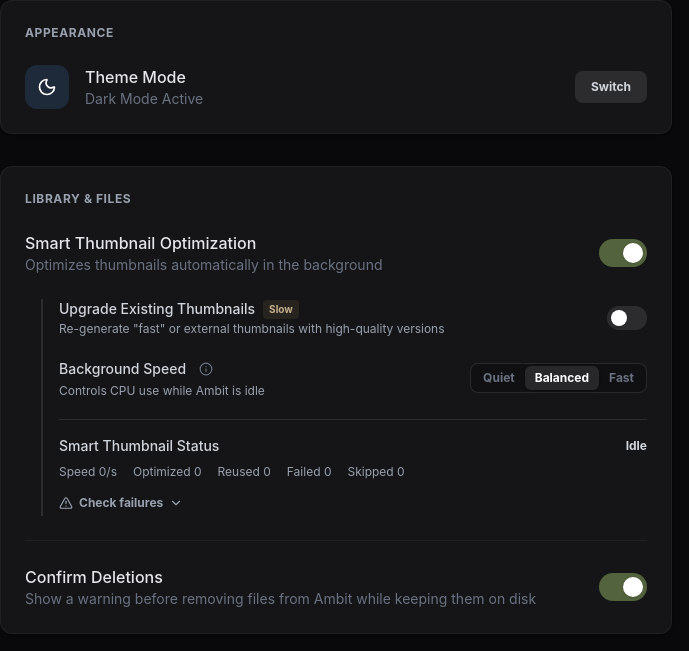
Test: GeneralTab Smart Thumbnail details › explains the CPU and responsiveness tradeoff between background speed profiles
The image size is (689, 651).
Step 1. Focus the button named "About background thumbnail speed" → (206, 369), box x1=194 y1=357 x2=218 y2=381
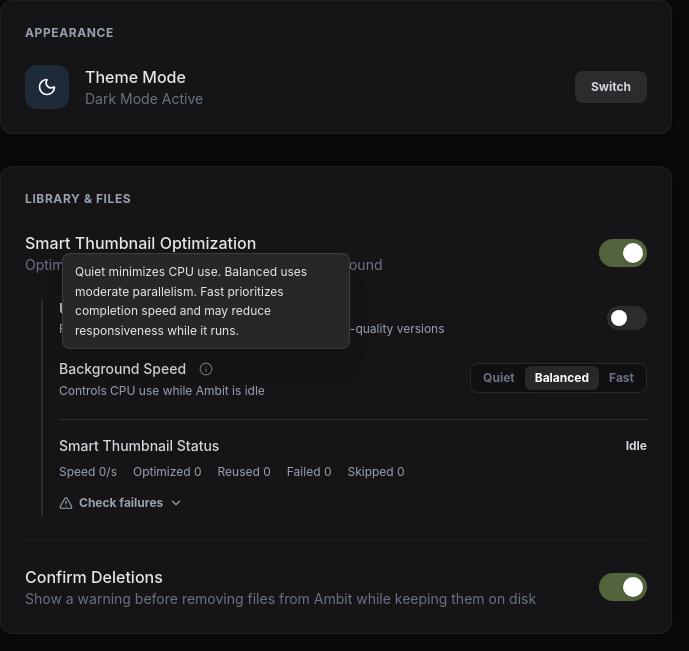
expect the tooltip shows "Quiet minimizes CPU use": met, box x1=75 y1=264 x2=307 y2=338
expect the tooltip shows "Fast prioritizes completion speed": met, box x1=75 y1=264 x2=307 y2=338
